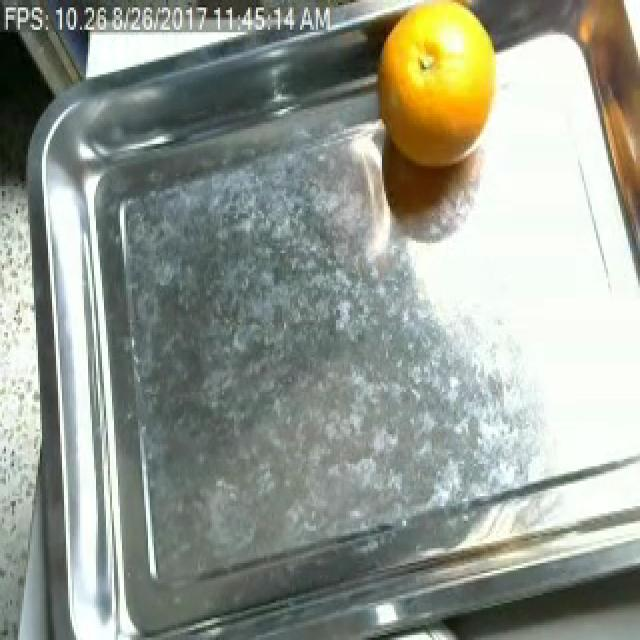Fruit: (354, 0, 524, 189), (560, 0, 640, 174)
